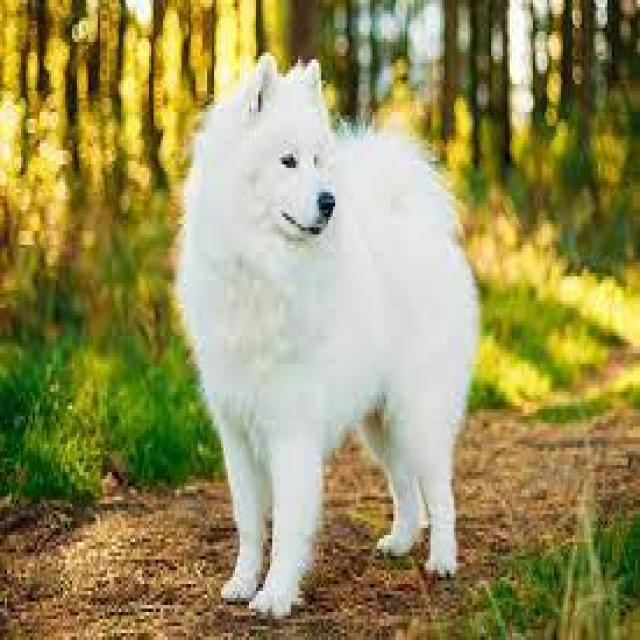dogs: (175, 52, 480, 617)
